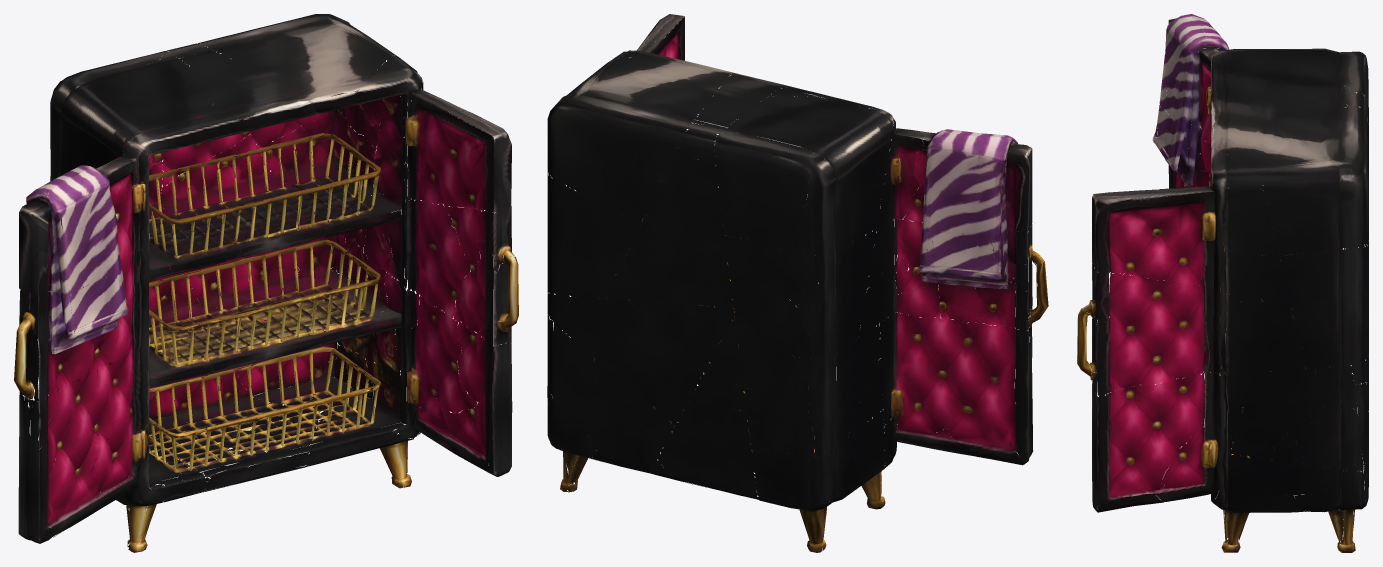
The model's file is pantry.glb.
The picture shows the model from 3 angles, left to right: view 1: azimuth 30°, elevation 25°; view 2: azimuth 150°, elevation 25°; view 3: azimuth 270°, elevation 25°; orthographic projection. The views are drawn at different scales.
Parts seen in each view (by area): view 1: tripo_node_bc78db38-93dd-4025-8740-1d27ea05a9f7; view 2: tripo_node_bc78db38-93dd-4025-8740-1d27ea05a9f7; view 3: tripo_node_bc78db38-93dd-4025-8740-1d27ea05a9f7.
Boxes of the visible parts, box(x1,y1,x2,y2) form: tripo_node_bc78db38-93dd-4025-8740-1d27ea05a9f7: box(14, 14, 518, 552); tripo_node_bc78db38-93dd-4025-8740-1d27ea05a9f7: box(547, 14, 1048, 552); tripo_node_bc78db38-93dd-4025-8740-1d27ea05a9f7: box(1077, 14, 1368, 552).
Size of the model in its own units: 1 by 0.8924 by 0.6116.
Materials: 1 (1 with a texture image).
